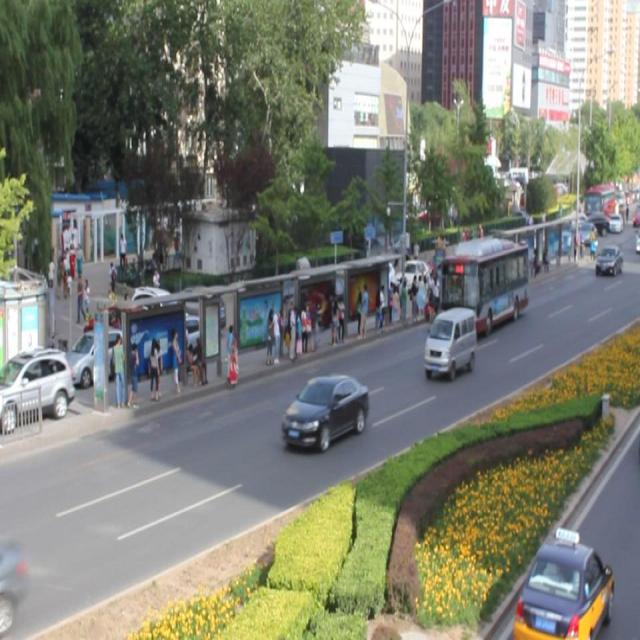car: (280, 372, 369, 448)
truck: (423, 306, 474, 374)
van: (440, 236, 526, 332)
